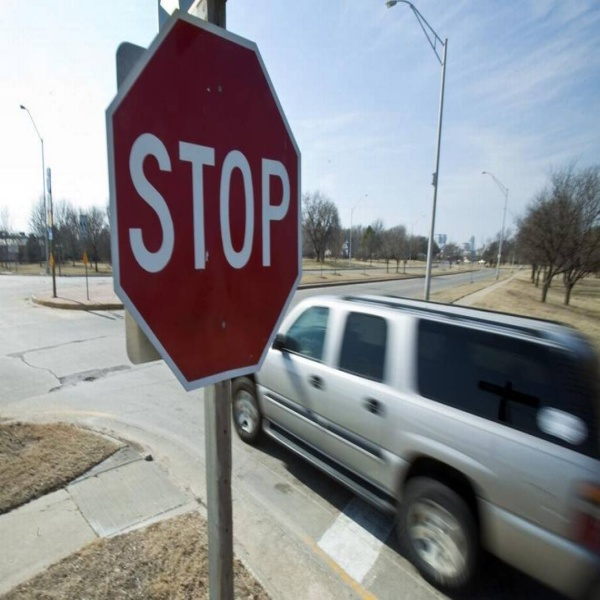stop: (111, 20, 300, 382)
